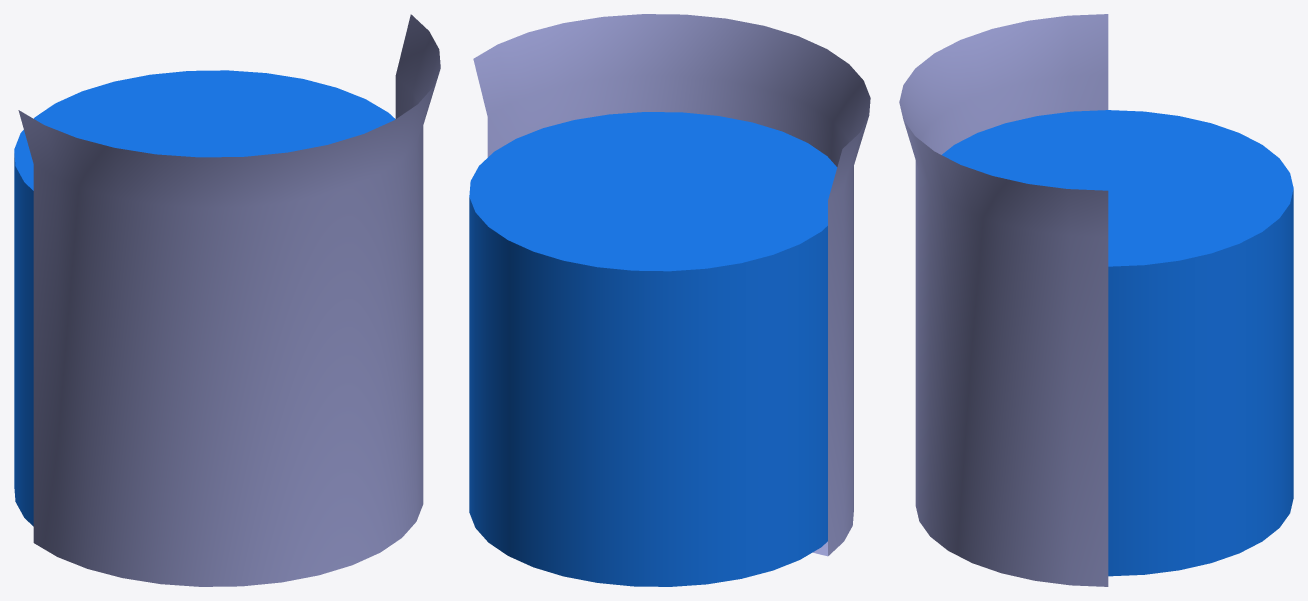
The model's file is gokul sir sidementation .gltf.
3 renders of one model, left to right at view 1: azimuth 30°, elevation 25°; view 2: azimuth 150°, elevation 25°; view 3: azimuth 270°, elevation 25°, orthographic. The views are drawn at different scales.
Parts seen in each view (by area): view 1: Cylinder, Cylinder.001; view 2: Cylinder.001, Cylinder; view 3: Cylinder, Cylinder.001.
Boxes of the visible parts, x1,y1,x2,y2 form: Cylinder: (18, 14, 440, 586); Cylinder.001: (14, 70, 395, 526); Cylinder.001: (469, 112, 837, 586); Cylinder: (473, 14, 870, 556); Cylinder: (899, 14, 1108, 586); Cylinder.001: (942, 110, 1293, 576).
Size of the model in its own units: 2.17 by 2.31 by 2.05.
